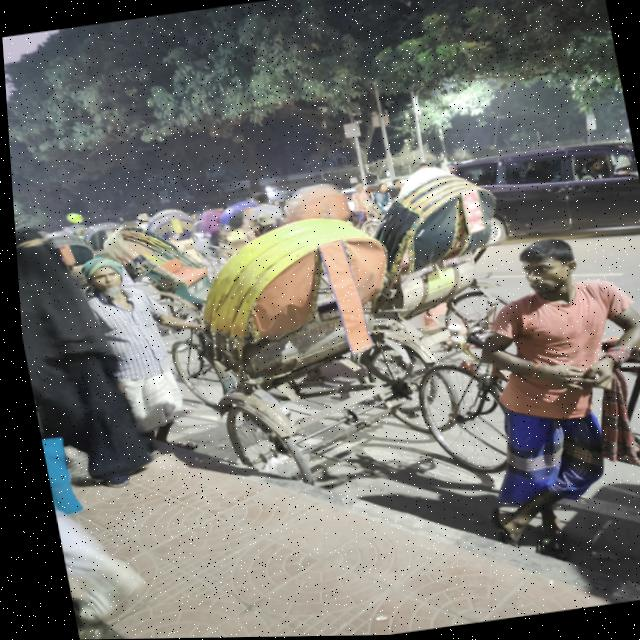rikshaw: (151, 194, 412, 535), (327, 155, 583, 386)
